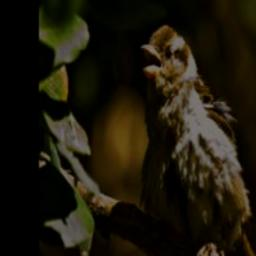Sparrow: (139, 24, 251, 256)
